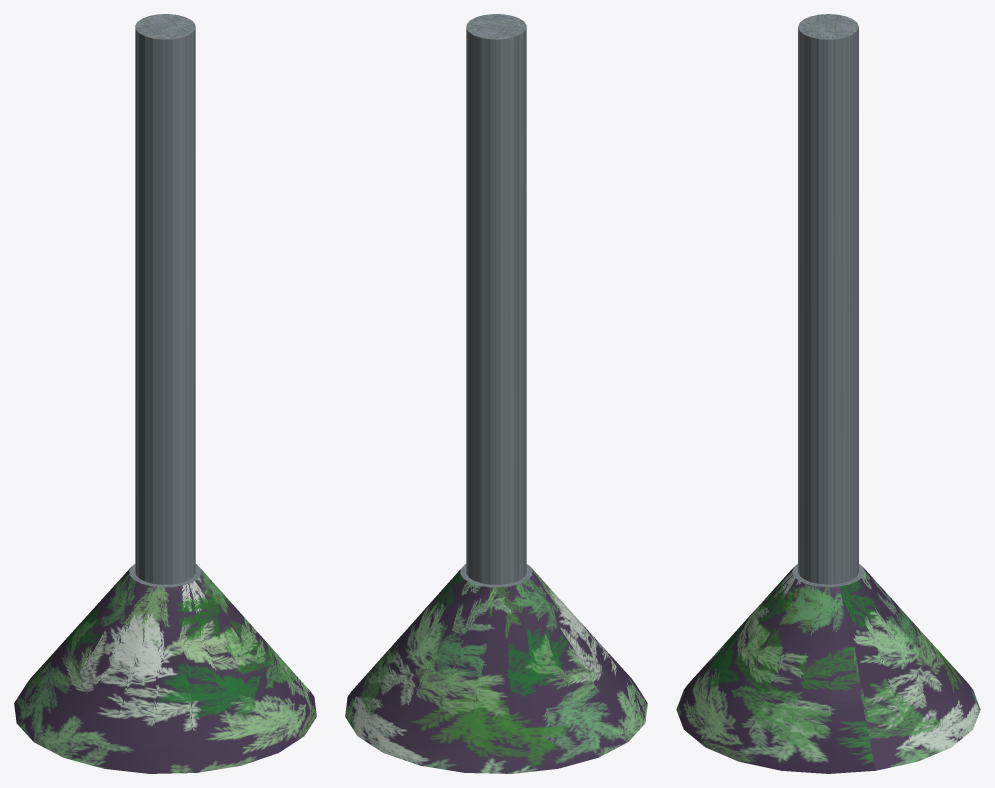
Rendered from CeilingLight.fbx.
The picture shows the model from 3 angles, left to right: view 1: azimuth 30°, elevation 25°; view 2: azimuth 150°, elevation 25°; view 3: azimuth 270°, elevation 25°; orthographic projection.
Visible parts, largest first — view 1: Light; view 2: Light; view 3: Light.
Boxes of the visible parts, x1,y1,x2,y2 form: Light: (14,14,316,773); Light: (345,14,647,773); Light: (676,14,980,773).
Size of the model in its own units: 2.46 by 6.1 by 2.46.
